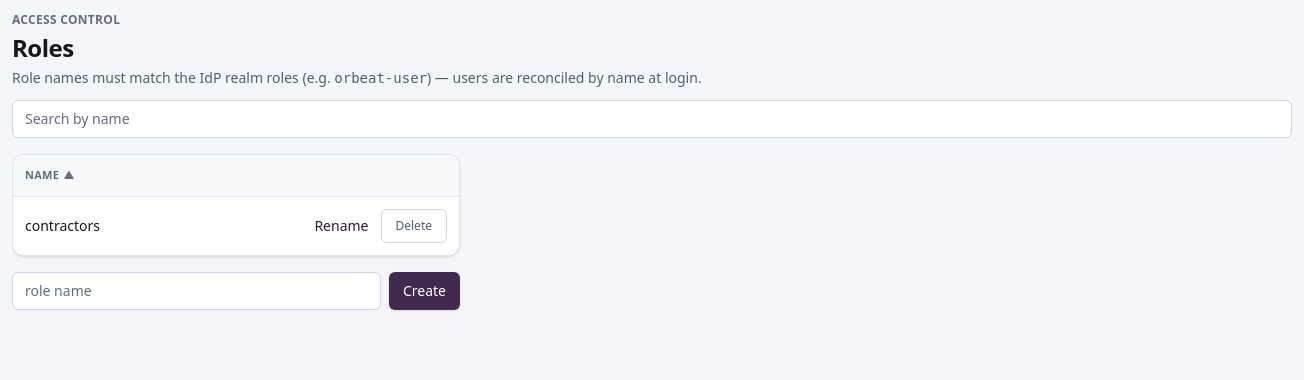
a configured lookup's "no such realm role" 400 renders inline, offering no checkbox either
The width and height of the screenshot is (1304, 380).
Click the button with aria-label "Rename contractors": (341, 226) [314, 216, 368, 236]
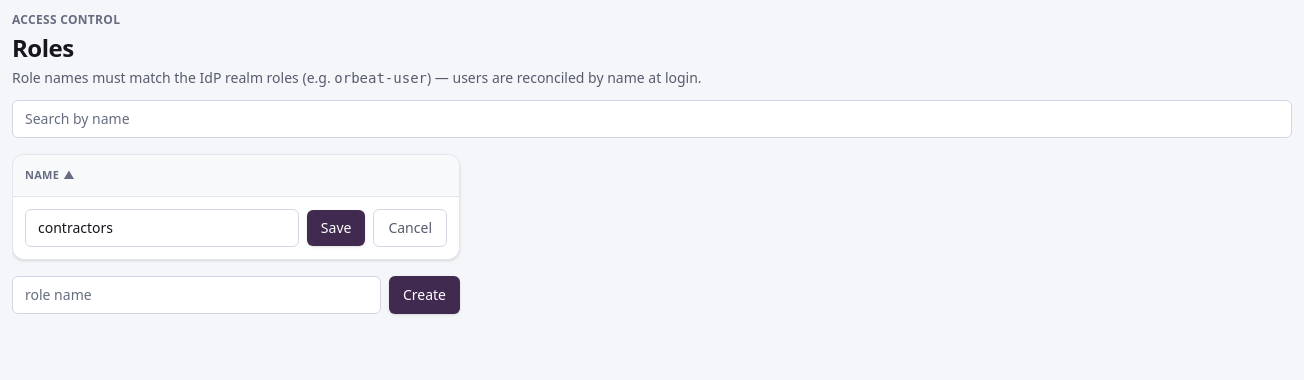
Replace the text in the field named "New name for contractors" with "ghost-role": (162, 228) [25, 208, 299, 246]
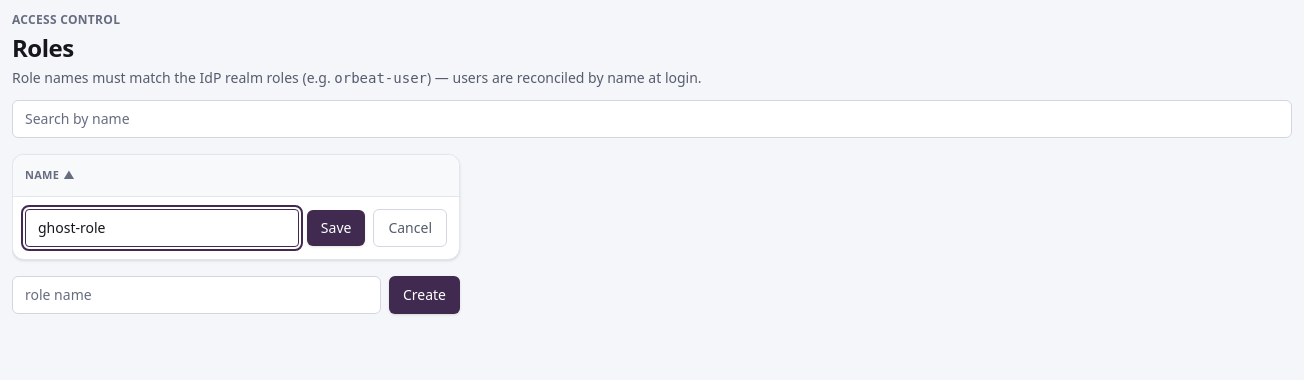
Click the button "Save": (336, 228) [307, 210, 365, 246]
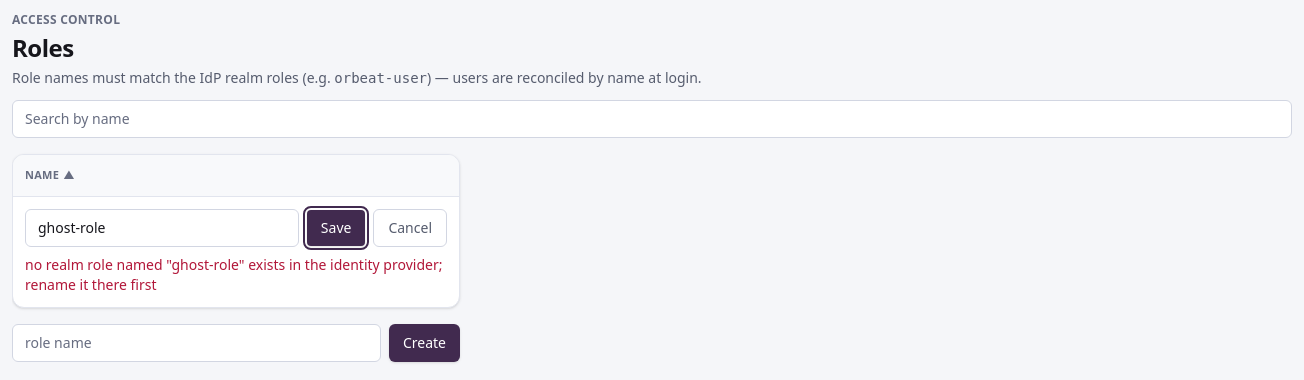
Check: the text "no realm role named \"ghost-role\" exists" is shown, box [25, 254, 442, 294]
